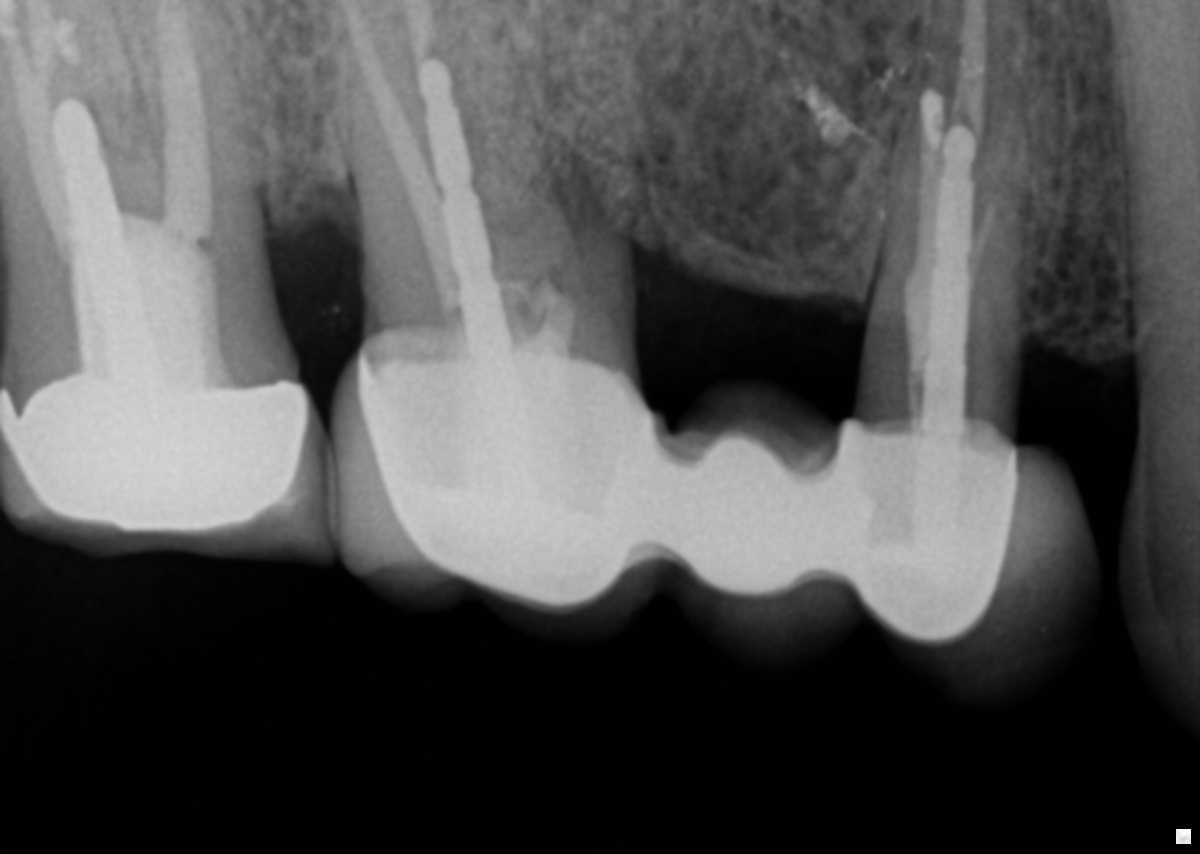Distal Root: (318, 0, 568, 240), (0, 0, 165, 252)
Main Root: (863, 2, 1036, 346), (1112, 0, 1200, 336)
Mesial Root: (107, 0, 271, 216)
Root Canal Filling: (341, 0, 450, 239), (0, 0, 81, 256), (154, 0, 212, 204), (899, 91, 945, 336), (953, 0, 984, 137)
